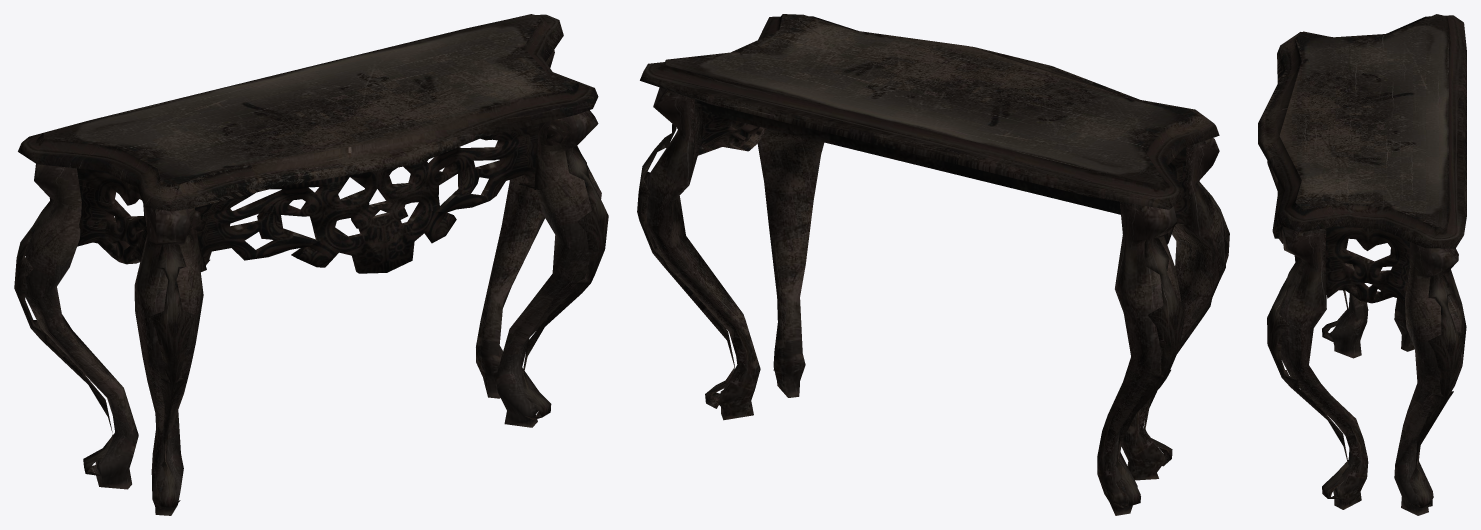
File: ClassicConsole_01_lod2.glb
3 views of the same model, side by side, from view 1: azimuth 30°, elevation 25°; view 2: azimuth 150°, elevation 25°; view 3: azimuth 270°, elevation 25° (orthographic). The views are drawn at different scales.
Parts seen in each view (by area): view 1: ClassicConsole_01; view 2: ClassicConsole_01; view 3: ClassicConsole_01.
Boxes of the visible parts, left/top/right/bottom form: ClassicConsole_01: left=14, top=14, right=608, bottom=515; ClassicConsole_01: left=637, top=14, right=1229, bottom=515; ClassicConsole_01: left=1258, top=14, right=1466, bottom=515.
Size of the model in its own units: 1.54 by 0.9491 by 0.5839.
1 material, 1 textured.
